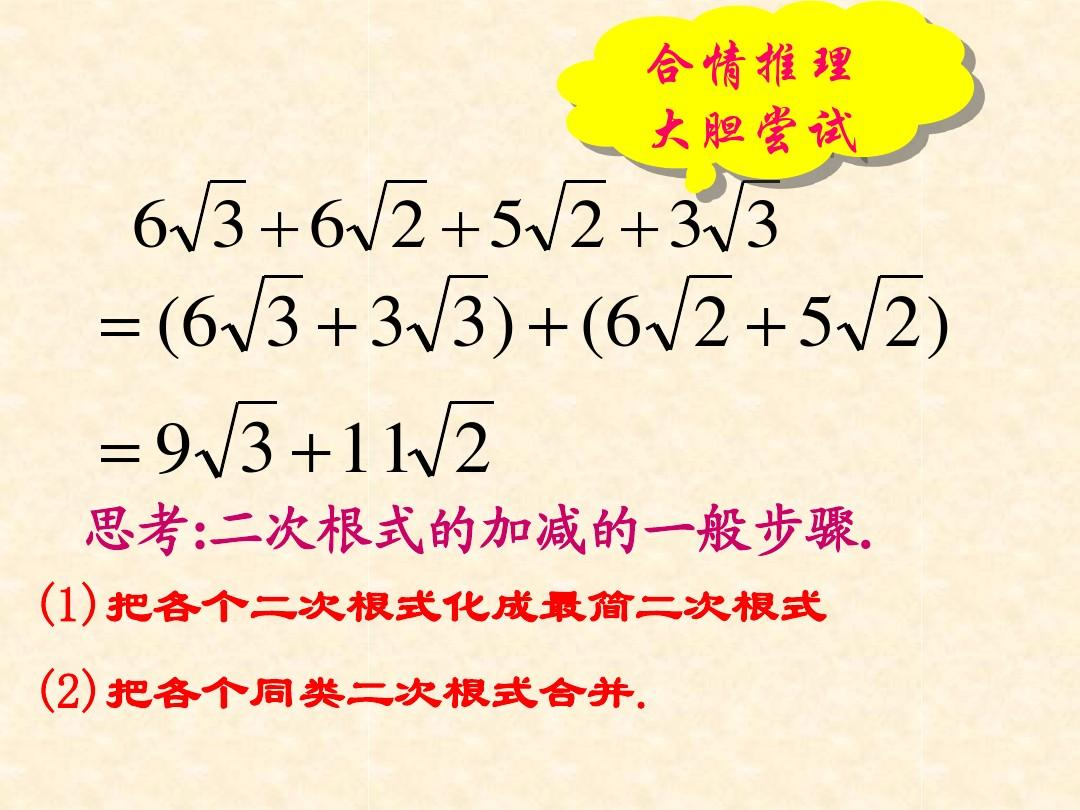sqrt: (408, 397, 504, 481), (649, 271, 741, 358), (838, 272, 931, 356), (405, 271, 492, 360), (708, 173, 790, 263), (196, 394, 279, 482), (349, 175, 436, 257), (225, 270, 305, 358), (525, 176, 611, 257), (169, 173, 246, 253)
